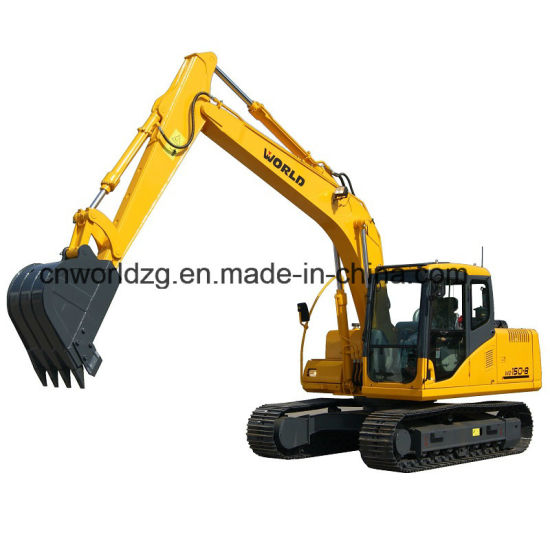backhoe: (5, 50, 529, 483)
